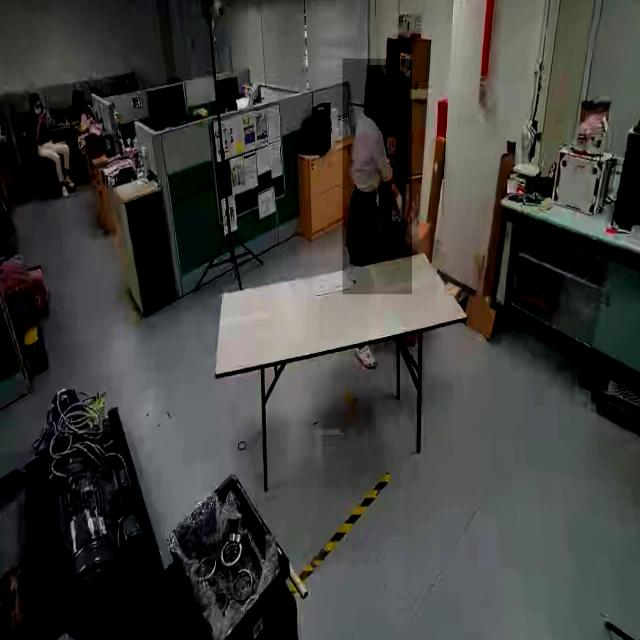hand_glove: (391, 184, 409, 222)
hand_noglove: (37, 113, 47, 123)
head_nohelmet: (366, 65, 389, 83), (29, 90, 41, 100), (72, 90, 84, 100)
person: (342, 59, 412, 295)
